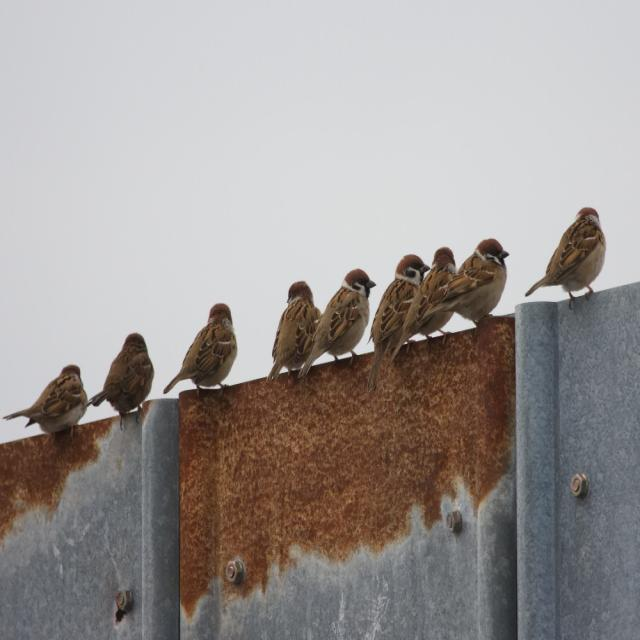bird: (524, 206, 610, 309), (162, 302, 242, 403), (5, 363, 89, 445), (439, 241, 513, 333), (89, 333, 157, 431), (376, 247, 426, 361), (323, 269, 377, 367), (272, 280, 322, 384), (413, 242, 461, 348), (569, 470, 591, 506)
